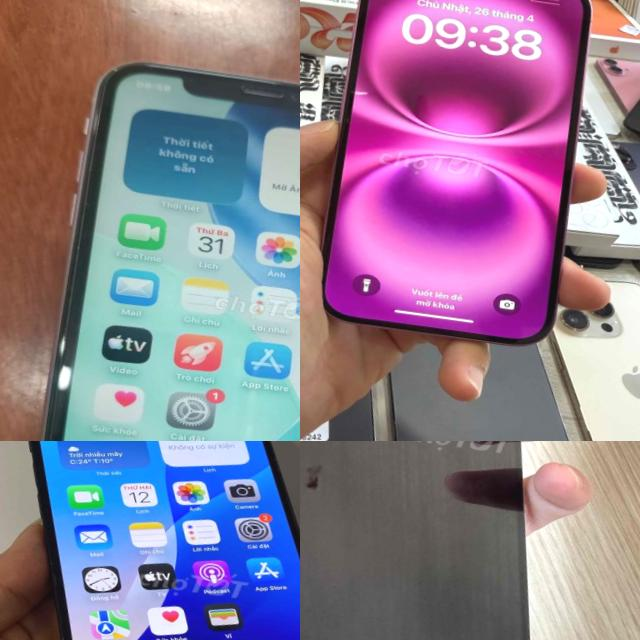gen_11: (44, 64, 300, 441)
gen_15: (0, 441, 300, 640)
gen_16: (301, 0, 623, 364)
